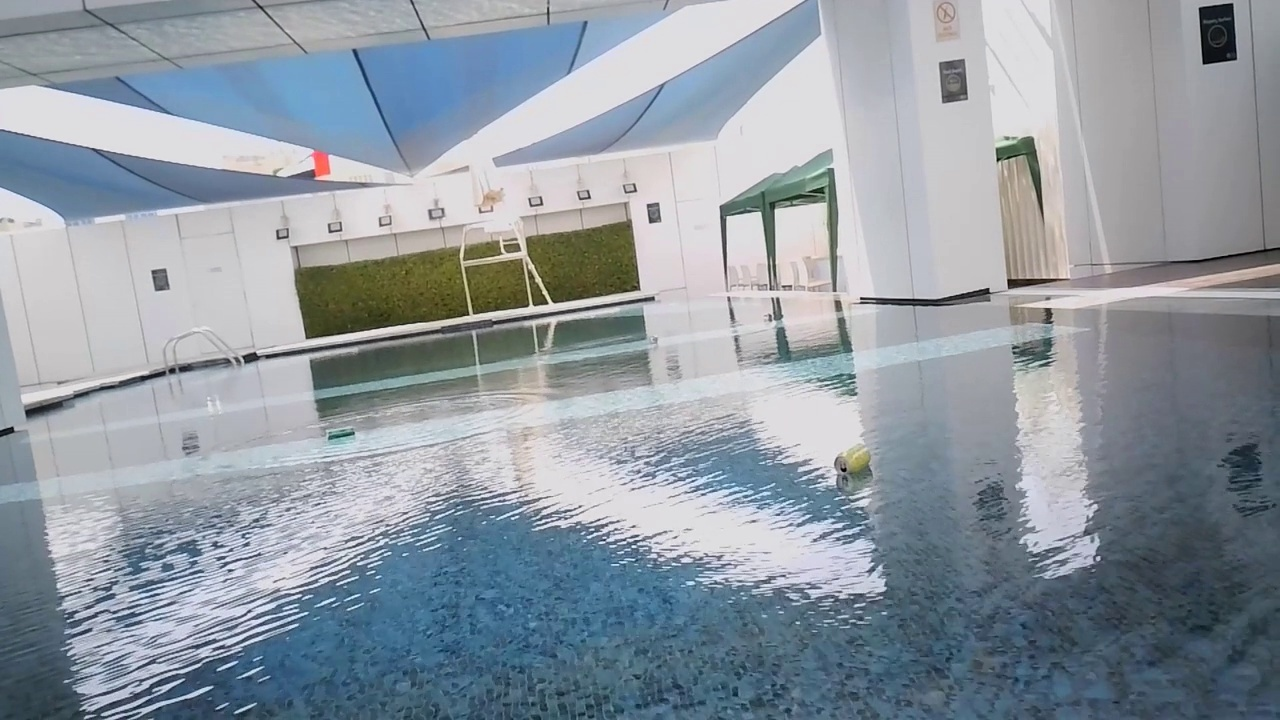debris: (826, 442, 870, 478), (320, 422, 356, 441), (646, 330, 658, 344), (761, 311, 772, 323)
